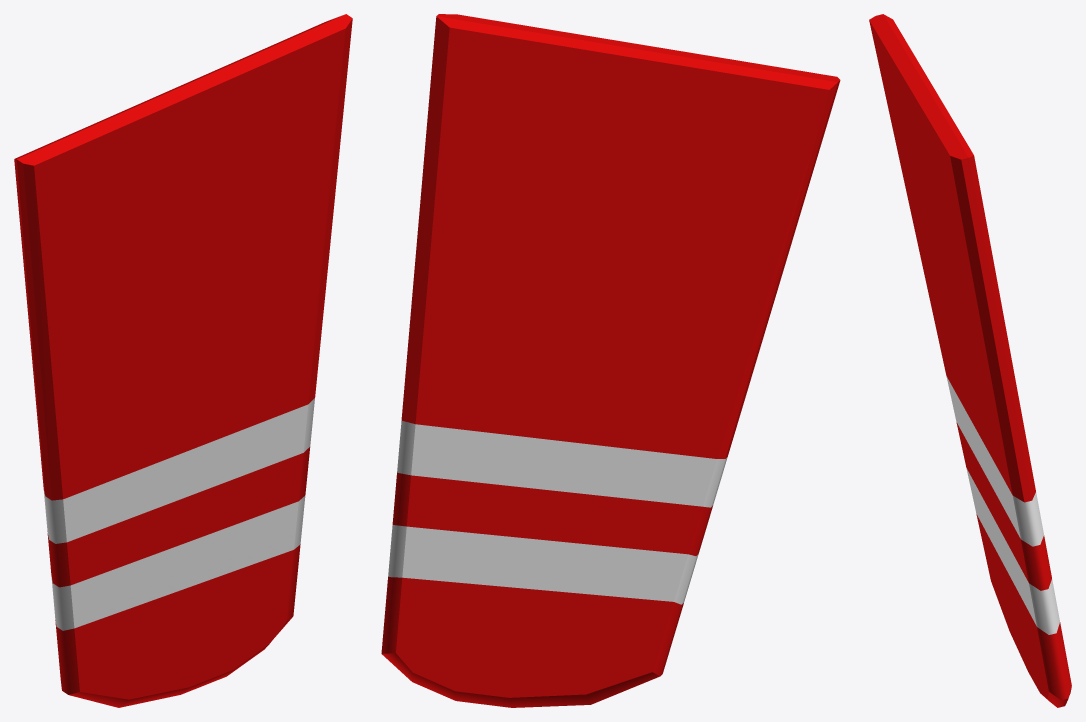
Rendered from ala_lenta.fbx.
3 renders of one model, left to right at view 1: azimuth 30°, elevation 25°; view 2: azimuth 150°, elevation 25°; view 3: azimuth 270°, elevation 25°, orthographic. The views are drawn at different scales.
Visible parts, largest first — view 1: Box001; view 2: Box001; view 3: Box001.
Part boxes in pixels (<box>): Box001: <box>14,14,352,707</box>; Box001: <box>381,14,840,707</box>; Box001: <box>869,14,1071,707</box>.
Bounding box in the file's own units: 2.48 × 4.22 × 1.35.
